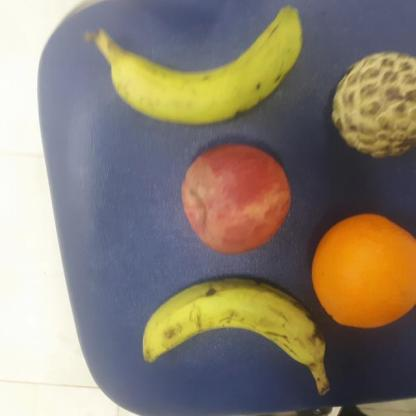annona: (324, 47, 416, 160)
apple: (178, 140, 293, 255)
banana: (94, 3, 304, 126), (140, 271, 327, 373)
orange: (312, 210, 416, 330)
